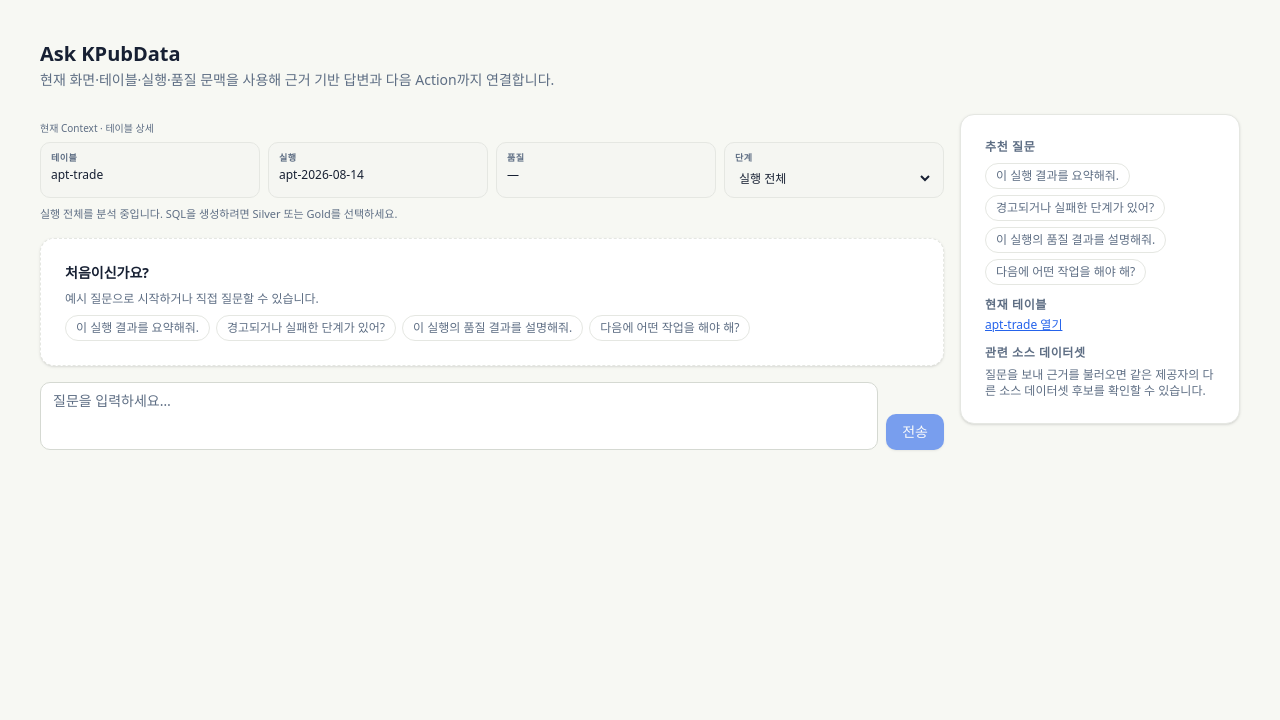
Scenario: ADD_REPORT_BLOCK approval preview (#256 리뷰 §3) › only queues the note into the Reports inbox after the user clicks 승인 (not before)
This screenshot has width=1280, height=720.
Type "가격 결측 요약해줘" into the text box named "Ask KPubData 에 질문하기" at (459, 416), box [40, 382, 878, 450]
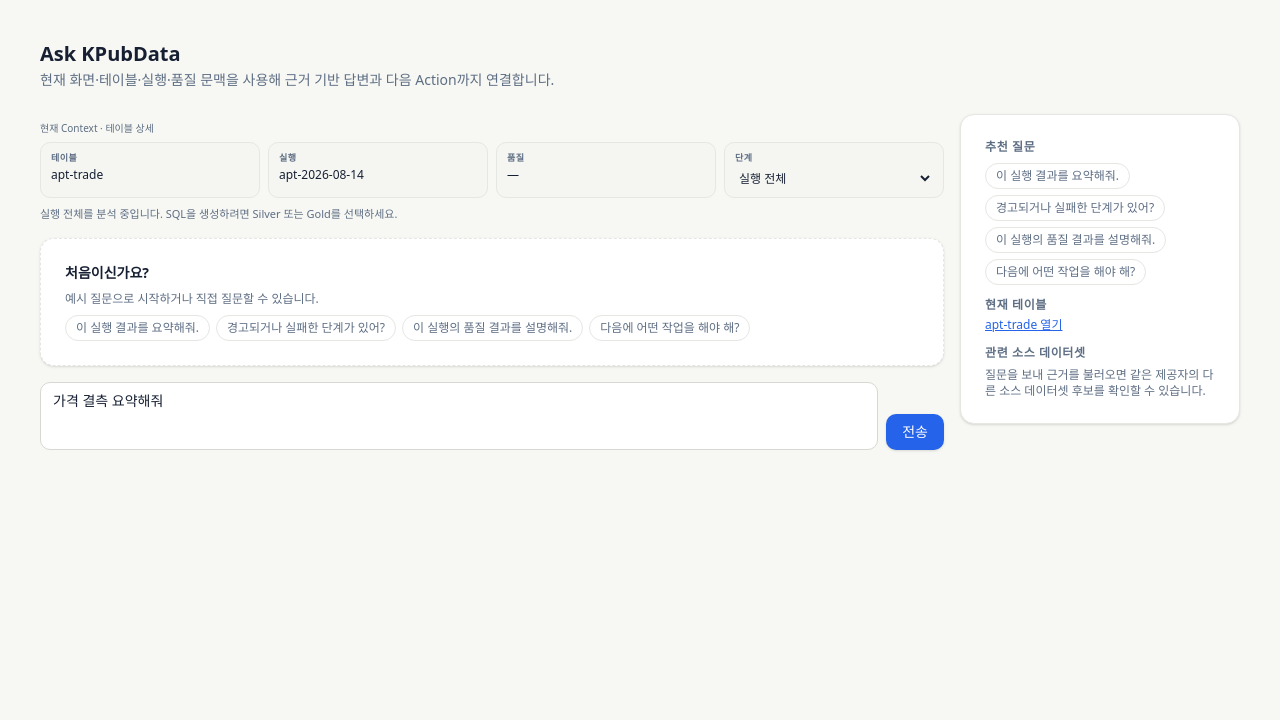
Submit the form named "Ask KPubData 에 질문하기", box [40, 382, 944, 450]
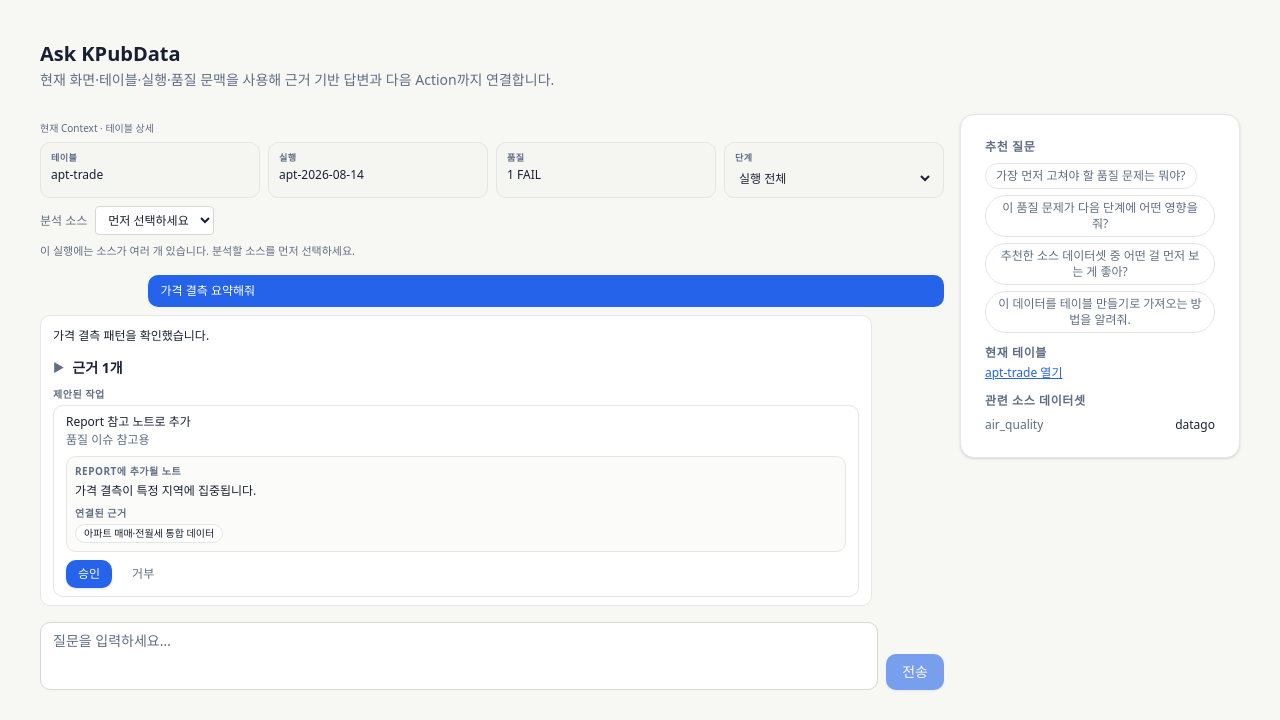
Expected: the button "승인" is shown
Click the button "승인" at (89, 574), box [66, 560, 112, 588]
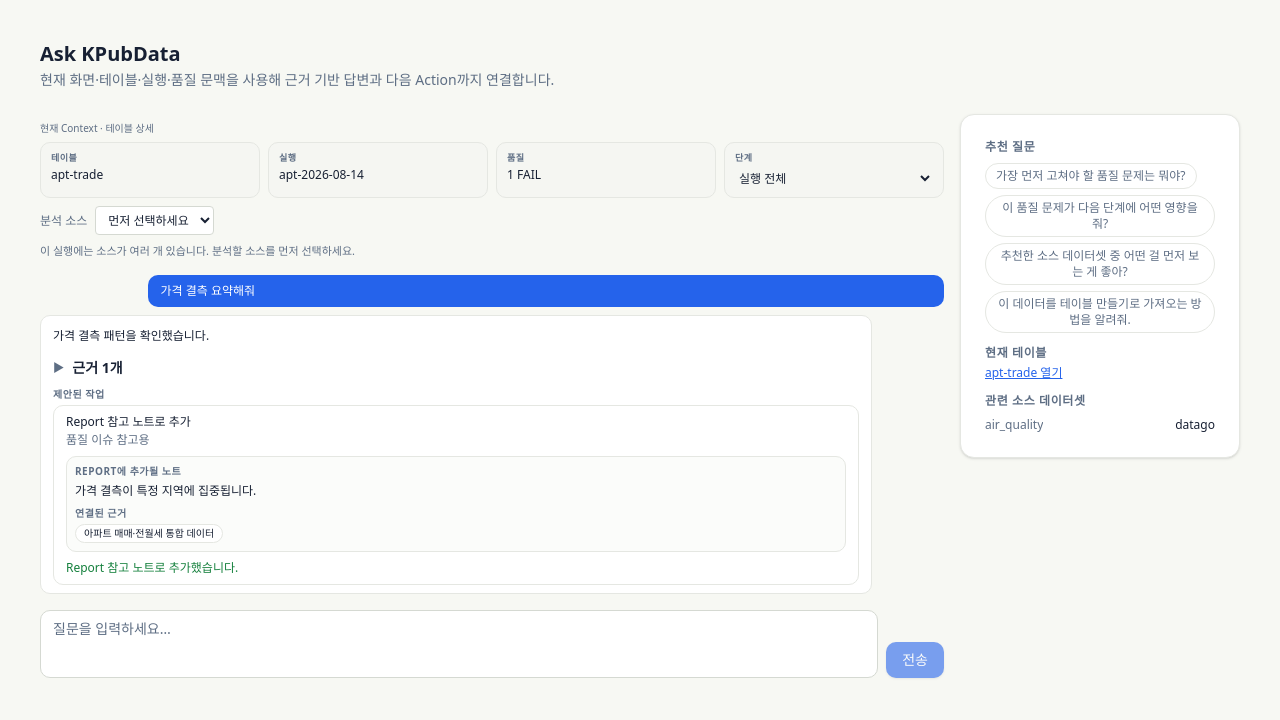
Expected: the text "가격 결측이 특정 지역에 집중됩니다." is shown, [75, 482, 256, 499]
Expected: the text "Report 참고 노트로 추가했습니다." is shown, [66, 560, 238, 576]
